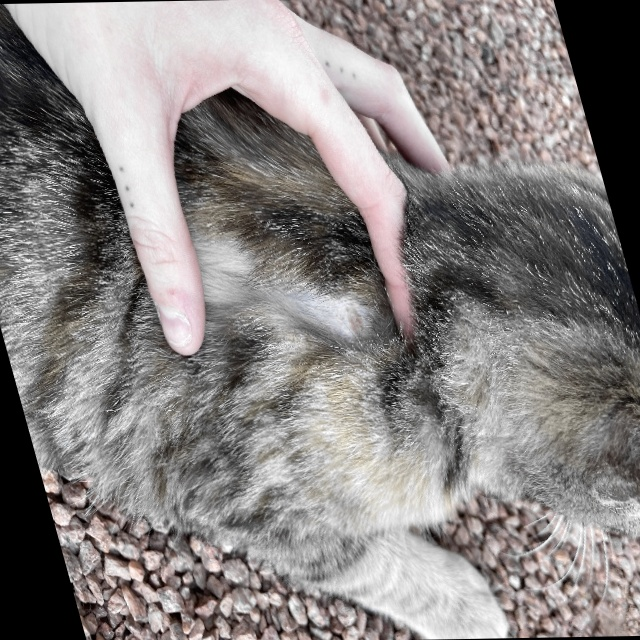hairloss: (184, 235, 402, 359)
